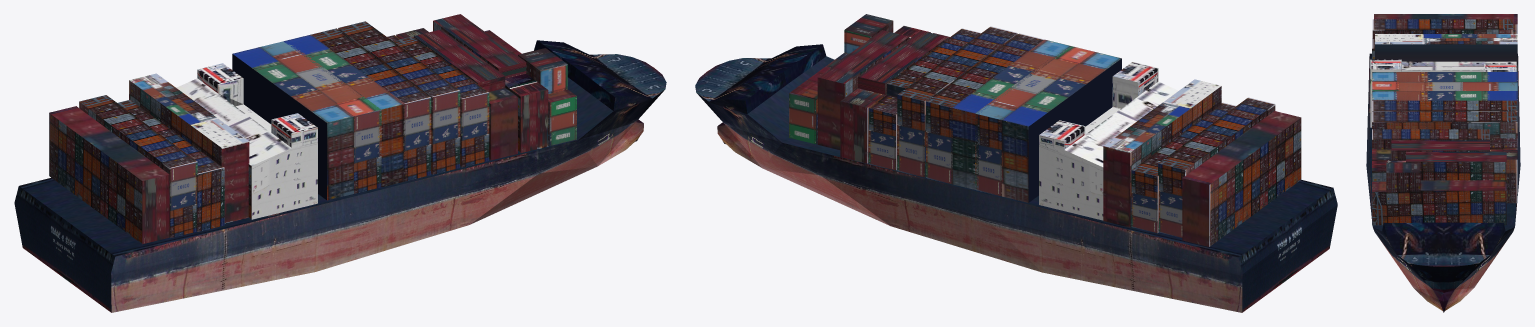
Rendered from ship.fbx.
The picture shows the model from 3 angles, left to right: view 1: azimuth 30°, elevation 25°; view 2: azimuth 150°, elevation 25°; view 3: azimuth 270°, elevation 25°; orthographic projection. The views are drawn at different scales.
Parts seen in each view (by area): view 1: polySurface12; view 2: polySurface12; view 3: polySurface12.
Part boxes in pixels (bbox=[...]): polySurface12: bbox=[14, 14, 666, 312]; polySurface12: bbox=[695, 14, 1337, 312]; polySurface12: bbox=[1366, 14, 1520, 312].
Size of the model in its own units: 16.33 by 3.8 by 4.79.
Materials: 1 (1 with a texture image).
